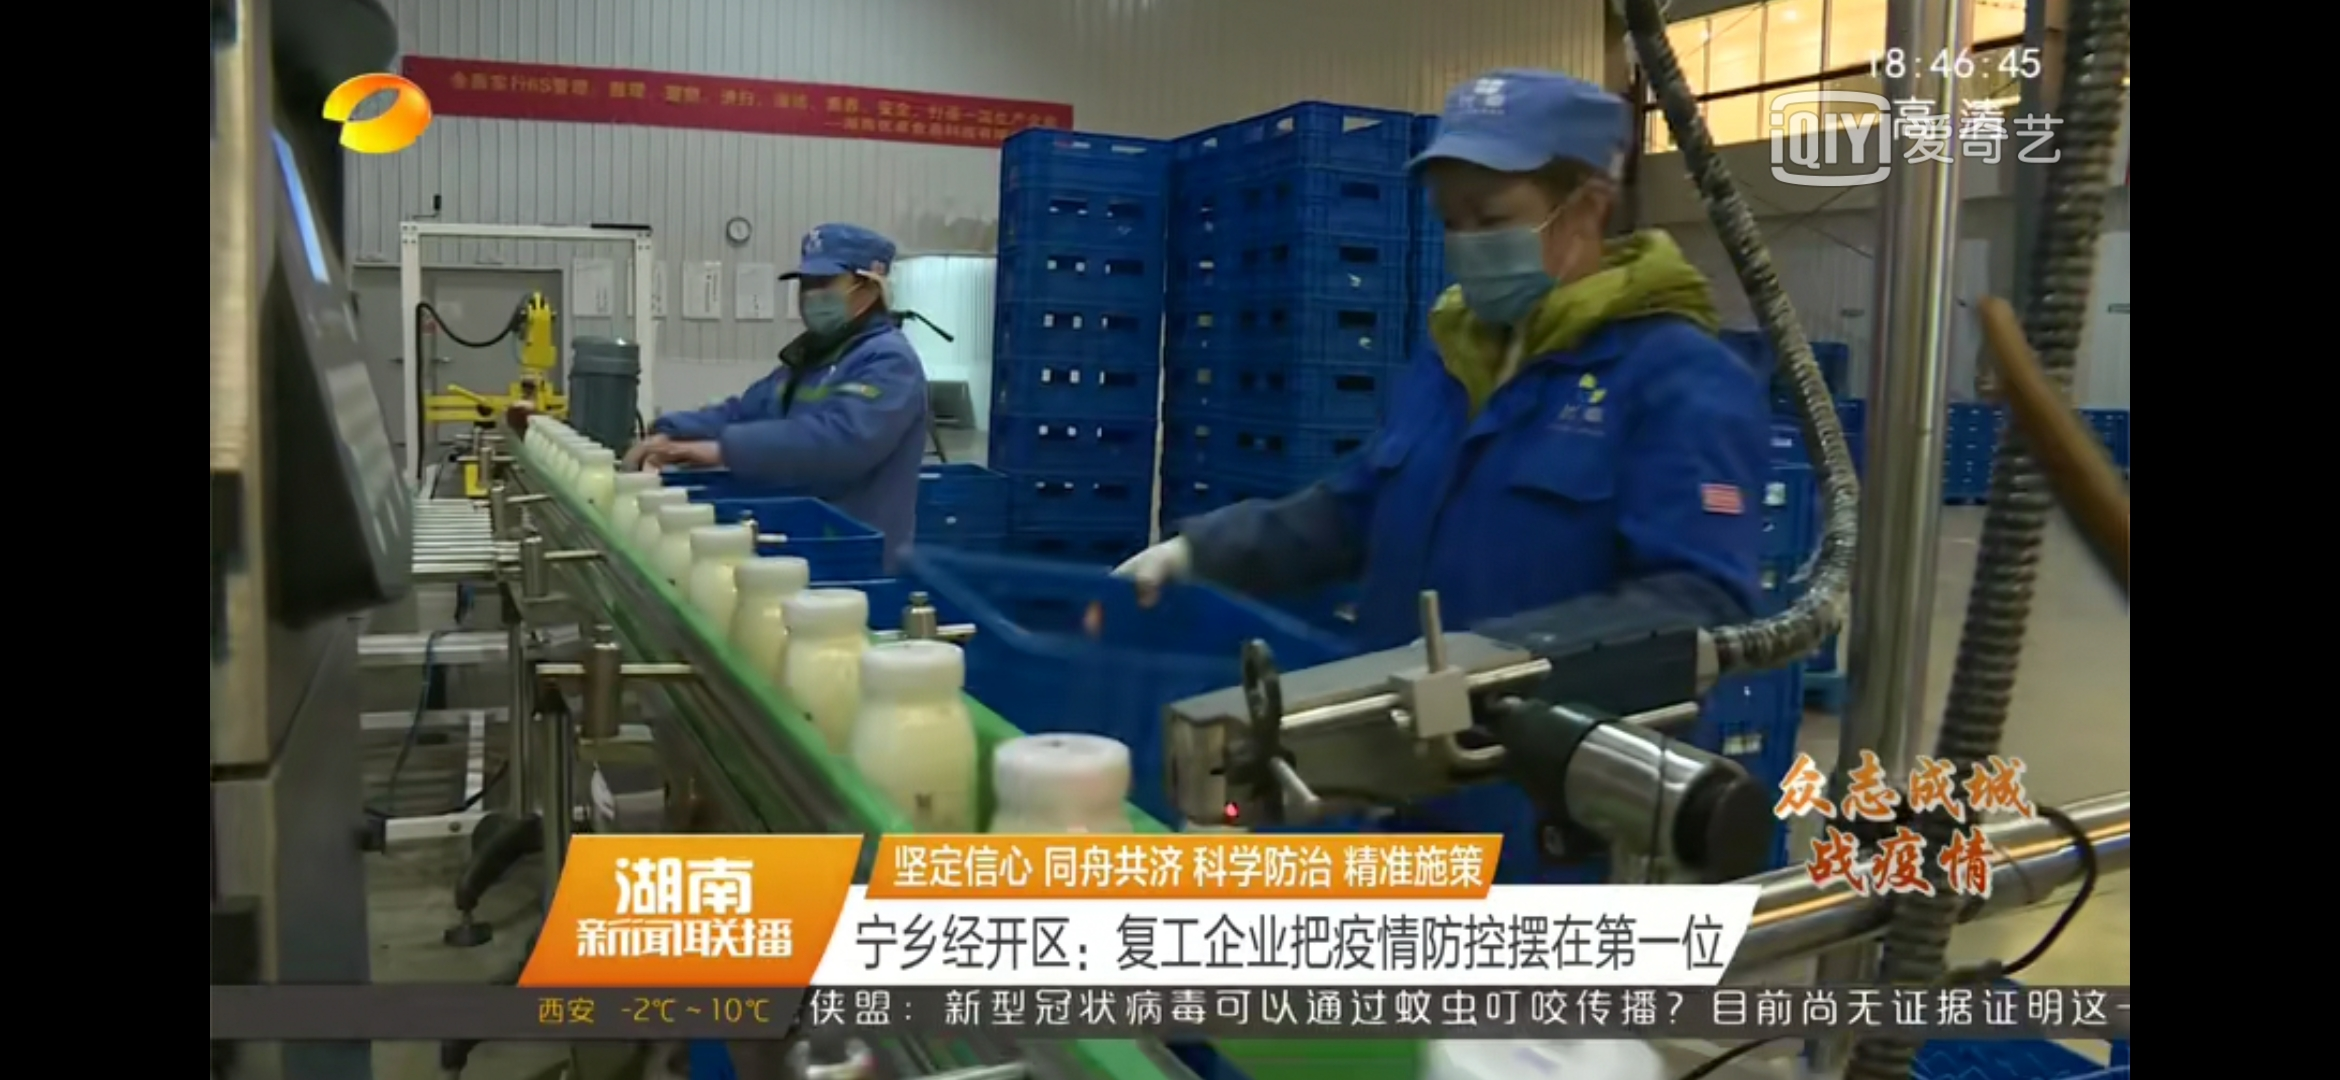correctlyWear: (1431, 152, 1615, 328), (778, 251, 892, 342)
